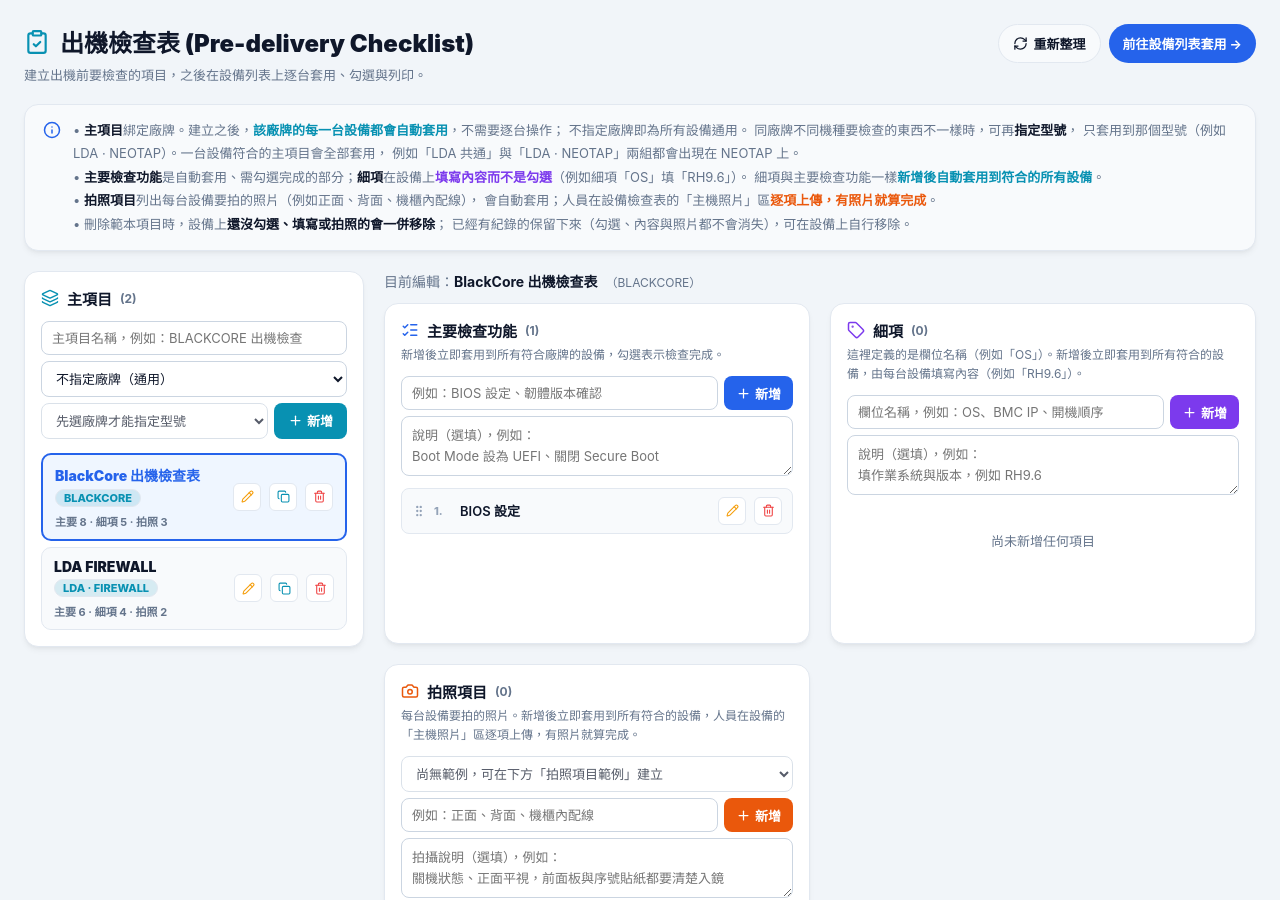
範本頁上複製 › 每個主項目都有複製按鈕，打開時選好那一個、沿用它的範圍
Check: the text "BIOS 設定" is shown, box [460,503,520,519]
Click the button named "複製主項目 LDA FIREWALL" at [284, 588], box [270,574,298,602]
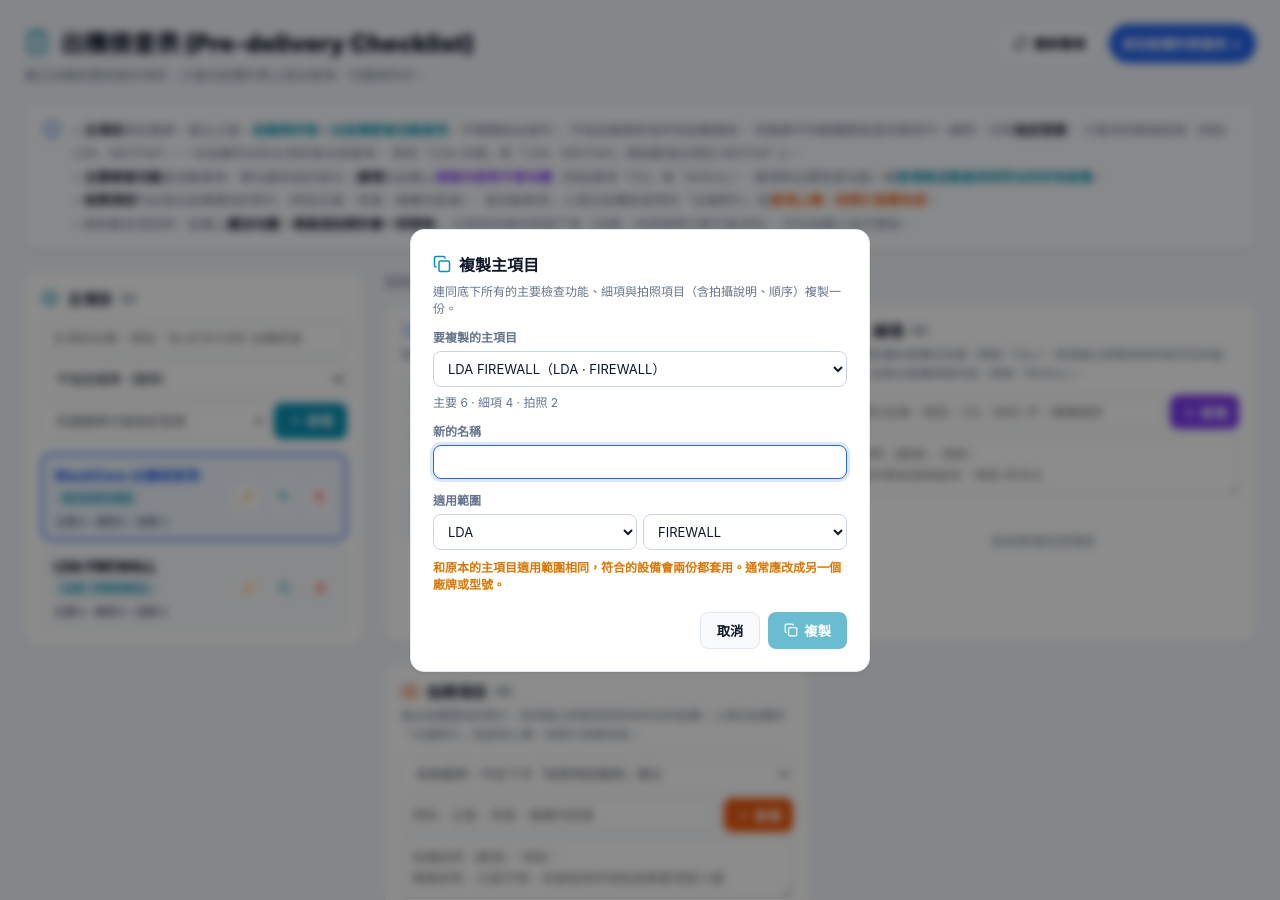
Check: the dropdown labelled "要複製的主項目" shows "LDA FIREWALL（LDA · FIREWALL）", box [433,350,847,386]
Check: the text with test id "copy-group-counts" reads "主要 6 · 細項 4 · 拍照 2", box [433,394,558,410]
Check: the dropdown named "複製後適用廠牌" shows "LDA", box [433,514,637,550]
